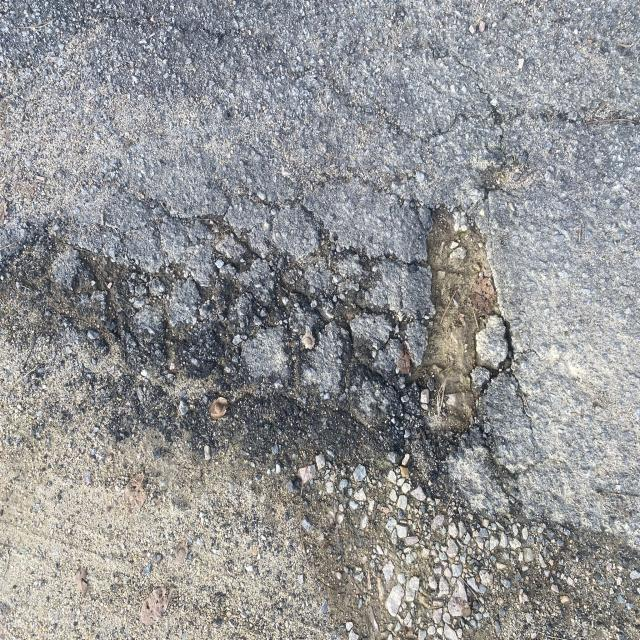Pothole: (94, 185, 529, 406)
